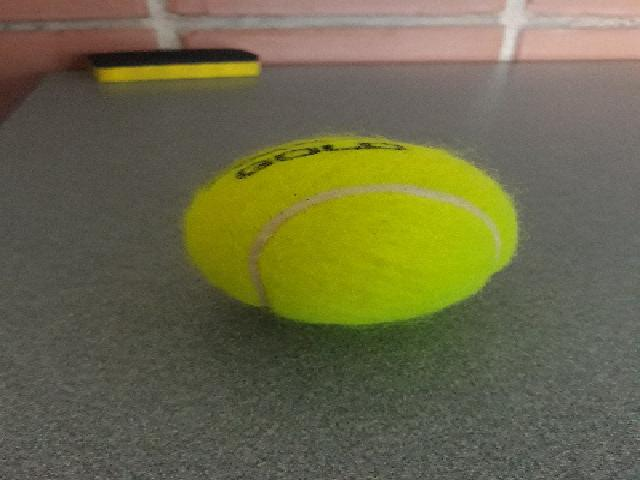Ball: (179, 134, 518, 326)
